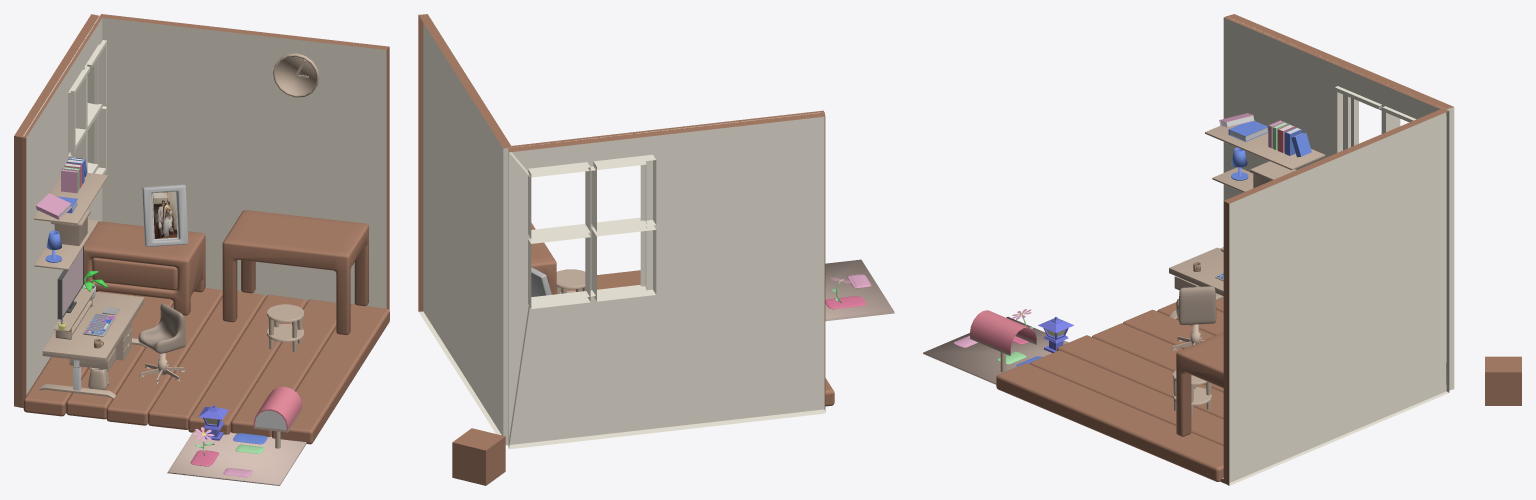
Rendered from gogo1.glb.
3 views of the same model, side by side, from view 1: azimuth 30°, elevation 25°; view 2: azimuth 150°, elevation 25°; view 3: azimuth 270°, elevation 25° (orthographic). The views are drawn at different scales.
Parts seen in each view (by area): view 1: Body, WoodFloor, Cube.009, Cube.010, Shelves, Desks, MiniFloor, Pic1, TableStuff, Mailbox, Clock, Chair (+4 smaller); view 2: Body, Cube, MiniFloor, WoodFloor, Cube.009, Desks.001; view 3: Body, WoodFloor, Shelves, Cube.009, MiniFloor, Mailbox, Cube, Desks, Chair, Desks.001, Lamp.
Boxes of the visible parts, <box> form: Body: <box>14,14,389,407</box>; WoodFloor: <box>23,288,389,444</box>; Cube.009: <box>222,210,368,334</box>; Cube.010: <box>84,221,205,315</box>; Shelves: <box>34,157,108,270</box>; Desks: <box>38,292,146,398</box>; MiniFloor: <box>167,431,306,485</box>; Pic1: <box>142,184,188,246</box>; TableStuff: <box>53,271,119,339</box>; Mailbox: <box>253,386,302,448</box>; Clock: <box>273,53,319,97</box>; Chair: <box>138,303,185,353</box>; Body: <box>418,14,825,449</box>; Cube: <box>452,428,505,485</box>; MiniFloor: <box>825,259,894,321</box>; WoodFloor: <box>560,270,834,406</box>; Cube.009: <box>531,223,556,294</box>; Desks.001: <box>556,269,585,294</box>; Body: <box>1220,14,1454,485</box>; WoodFloor: <box>996,298,1223,481</box>; Shelves: <box>1205,113,1325,192</box>; Cube.009: <box>1176,332,1223,436</box>; MiniFloor: <box>923,317,1068,384</box>; Mailbox: <box>970,310,1036,372</box>; Cube: <box>1485,356,1521,405</box>; Desks: <box>1169,247,1223,319</box>; Chair: <box>1176,286,1216,324</box>; Desks.001: <box>1173,370,1211,416</box>; Lamp: <box>1038,317,1073,352</box>.
Size of the model in its own units: 24.25 by 17.22 by 32.32.
Materials: 34 (1 with a texture image).
